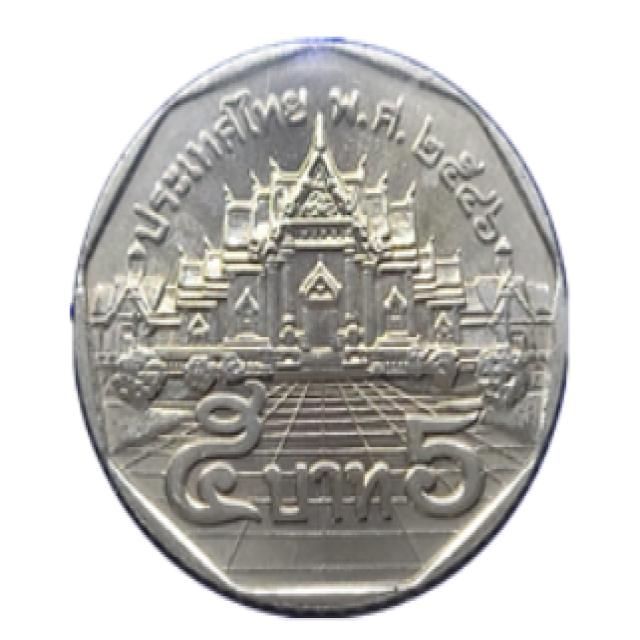5 Bath: (32, 10, 598, 632)
